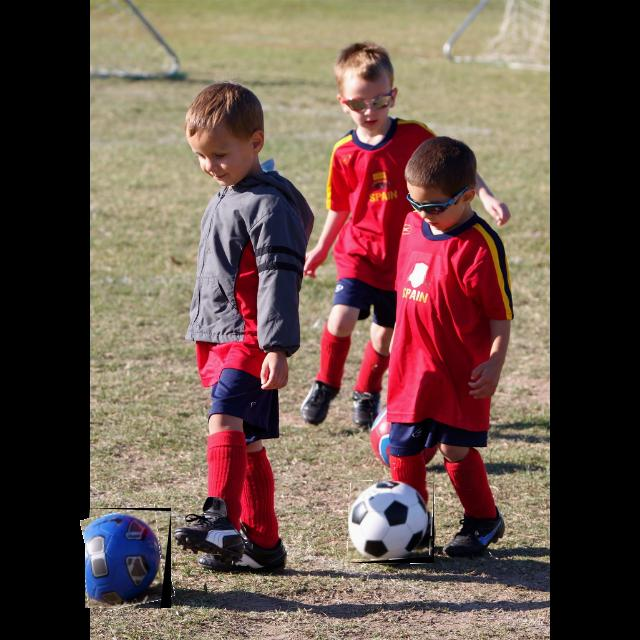Football: (85, 508, 171, 608), (348, 481, 434, 563)
